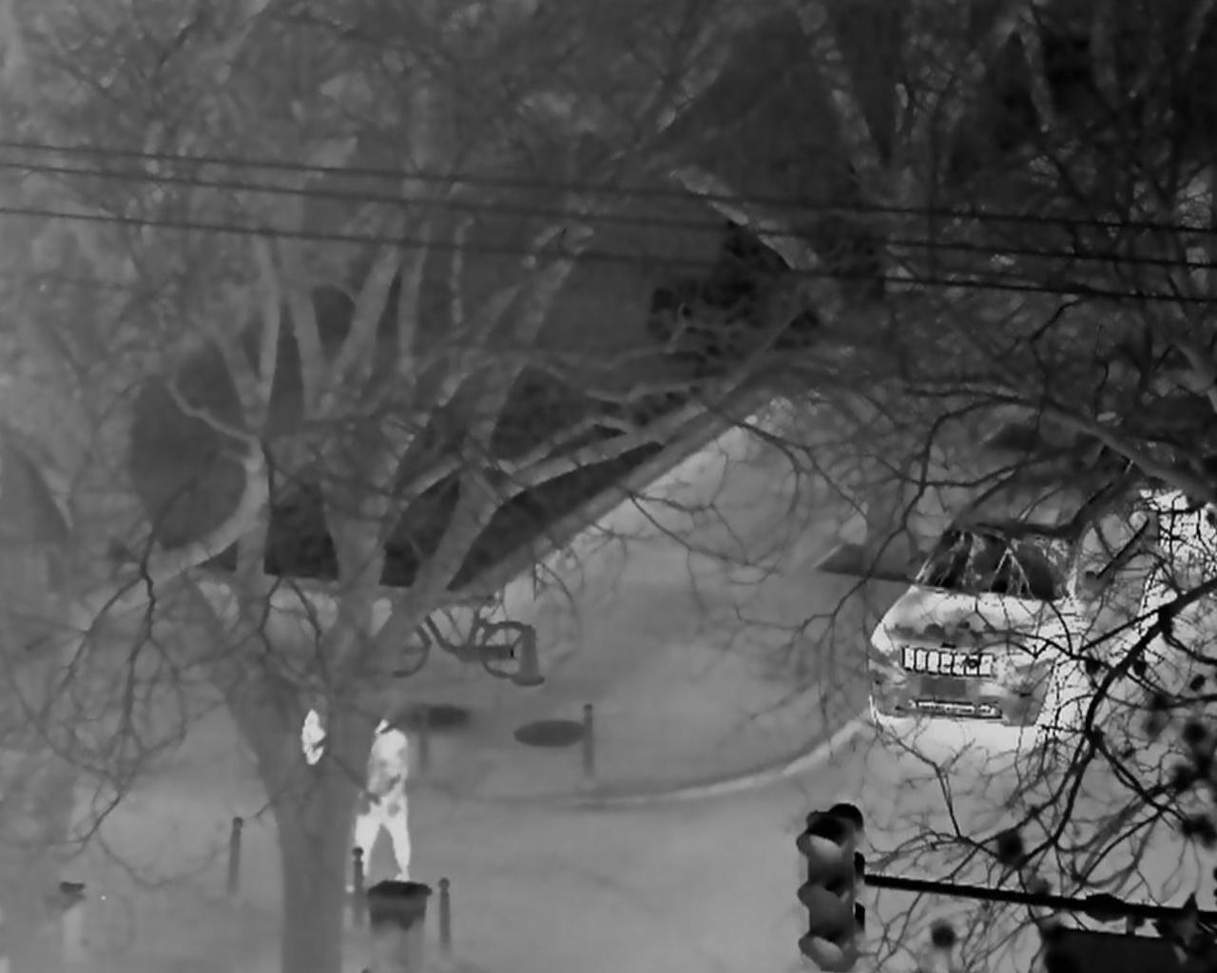person: (355, 714, 411, 883)
